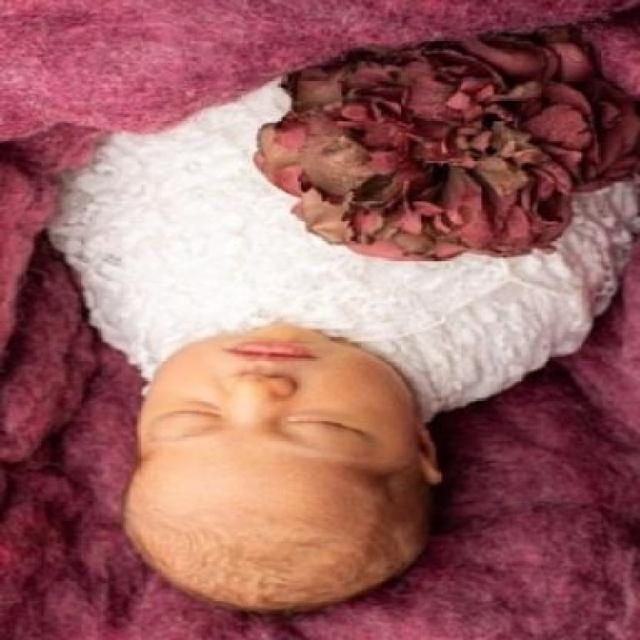baby: (44, 80, 620, 617)
